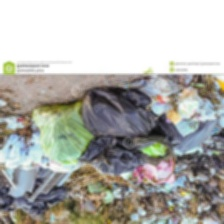plastic_bag: (27, 97, 92, 169), (79, 84, 159, 138), (156, 115, 223, 157), (76, 135, 141, 177), (132, 130, 177, 168)
